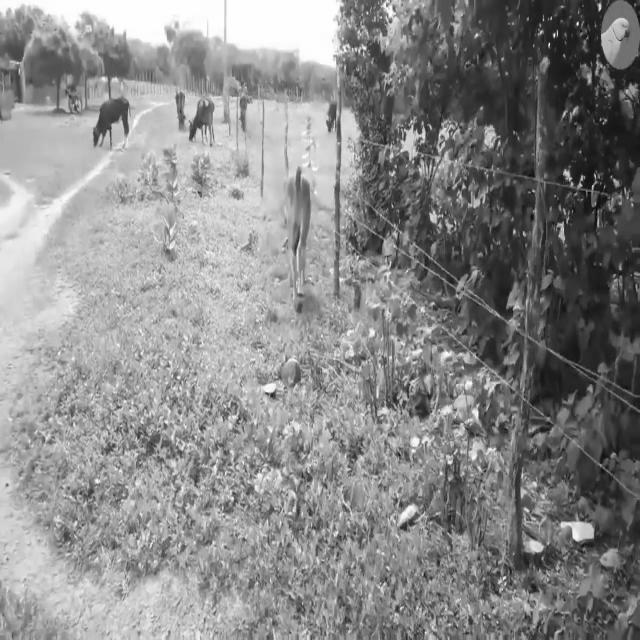cow: (286, 168, 311, 312)
